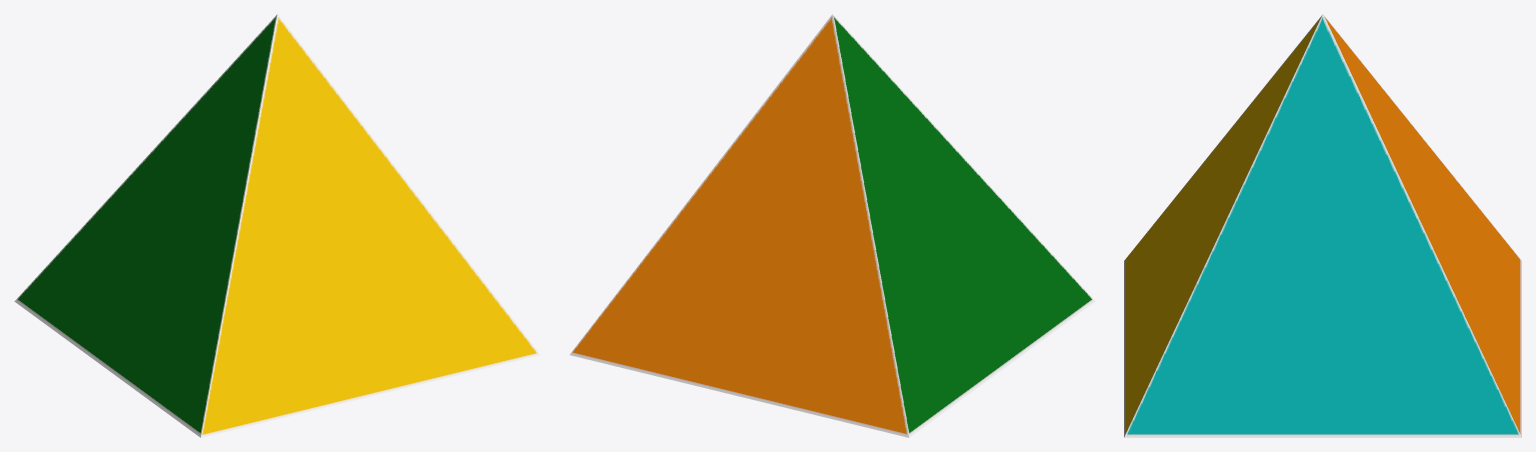
3 views of the same model, side by side, from view 1: azimuth 30°, elevation 25°; view 2: azimuth 150°, elevation 25°; view 3: azimuth 270°, elevation 25° (orthographic). The views are drawn at different scales.
Visible parts, largest first — view 1: Pyramid001; view 2: Pyramid001; view 3: Pyramid001.
Boxes of the visible parts, x1=… form: Pyramid001: x1=14, y1=14, x2=540, y2=437; Pyramid001: x1=569, y1=14, x2=1095, y2=437; Pyramid001: x1=1124, y1=14, x2=1521, y2=437.
Bounding box in the file's own units: 10.43 × 9.21 × 9.91.
Materials: 1 (1 with a texture image).
